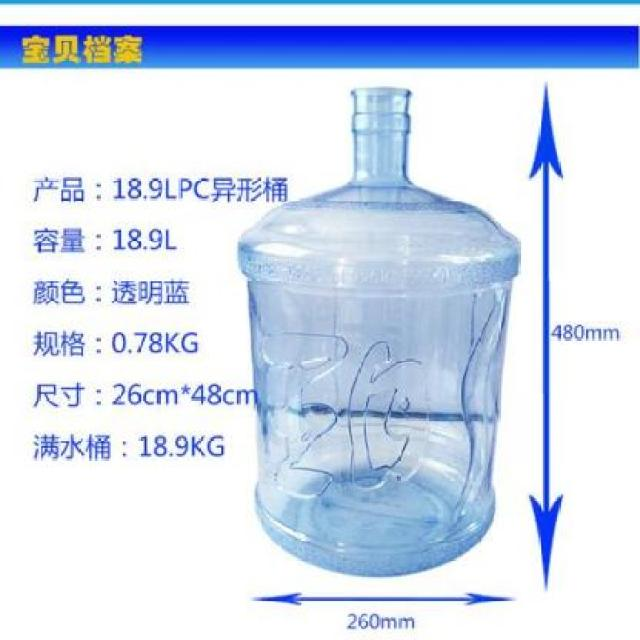coolerbottle: (229, 83, 526, 583)
